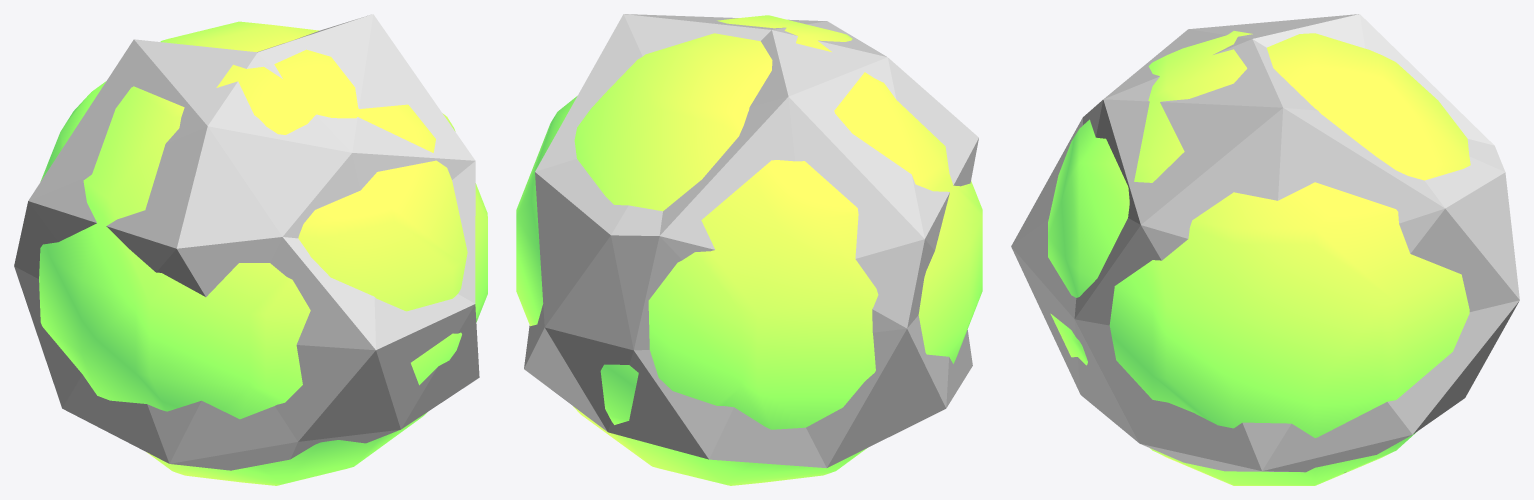
The model's file is mana.fbx.
3 renders of one model, left to right at view 1: azimuth 30°, elevation 25°; view 2: azimuth 150°, elevation 25°; view 3: azimuth 270°, elevation 25°, orthographic.
Parts seen in each view (by area): view 1: Icosphère, Mballe; view 2: Mballe, Icosphère; view 3: Mballe, Icosphère.
Boxes of the visible parts, x1,y1,x2,y2 form: Icosphère: (14, 14, 479, 470); Mballe: (39, 21, 487, 485); Mballe: (516, 15, 982, 485); Icosphère: (524, 14, 978, 468); Mballe: (1048, 31, 1470, 485); Icosphère: (1011, 14, 1519, 472).
Size of the model in its own units: 226 by 236 by 251.
